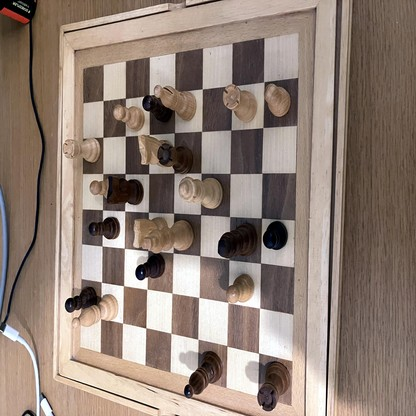bishop_black: (184, 350, 224, 398)
bishop_white: (73, 294, 119, 328), (155, 85, 196, 119)
king_white: (142, 221, 194, 251)
knight_black: (107, 178, 144, 204)
knight_white: (134, 219, 168, 252), (138, 134, 171, 166)
pawn_black: (65, 285, 96, 312), (135, 256, 165, 280), (143, 96, 172, 119), (264, 222, 288, 249), (90, 216, 120, 237)
pawn_white: (113, 102, 145, 128), (266, 84, 291, 117), (226, 275, 254, 304), (90, 175, 111, 200)
queen_white: (180, 177, 223, 209)
rock_black: (259, 362, 291, 410), (158, 145, 193, 174)
rock_white: (223, 85, 258, 123), (64, 139, 100, 162)
